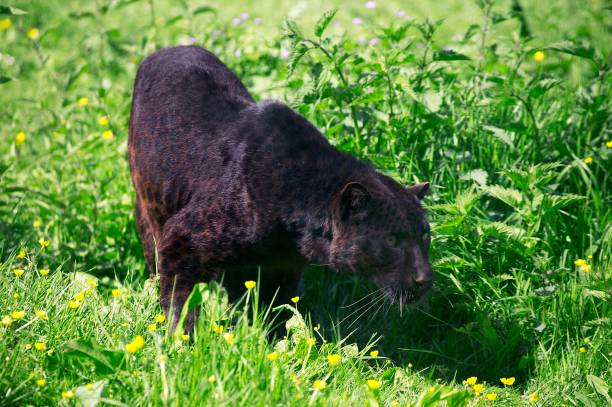panther: (335, 178, 443, 312)
